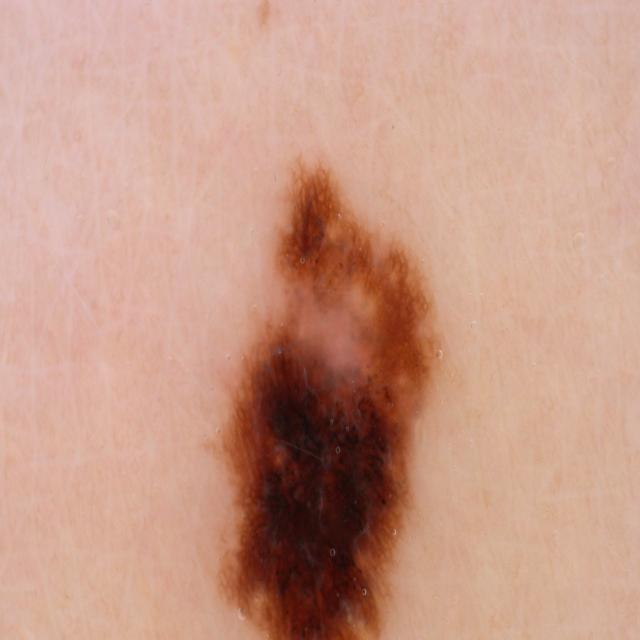Melanoma: (188, 119, 460, 640)
